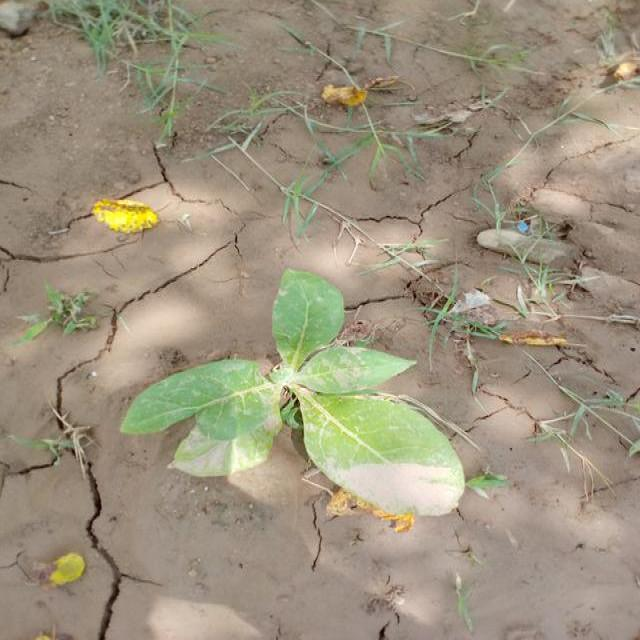crop: (118, 272, 465, 522)
